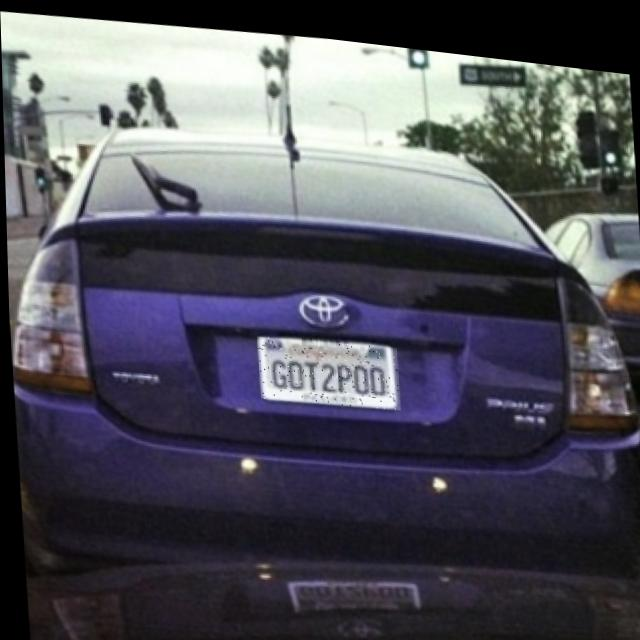license_plate: (255, 325, 398, 405)
